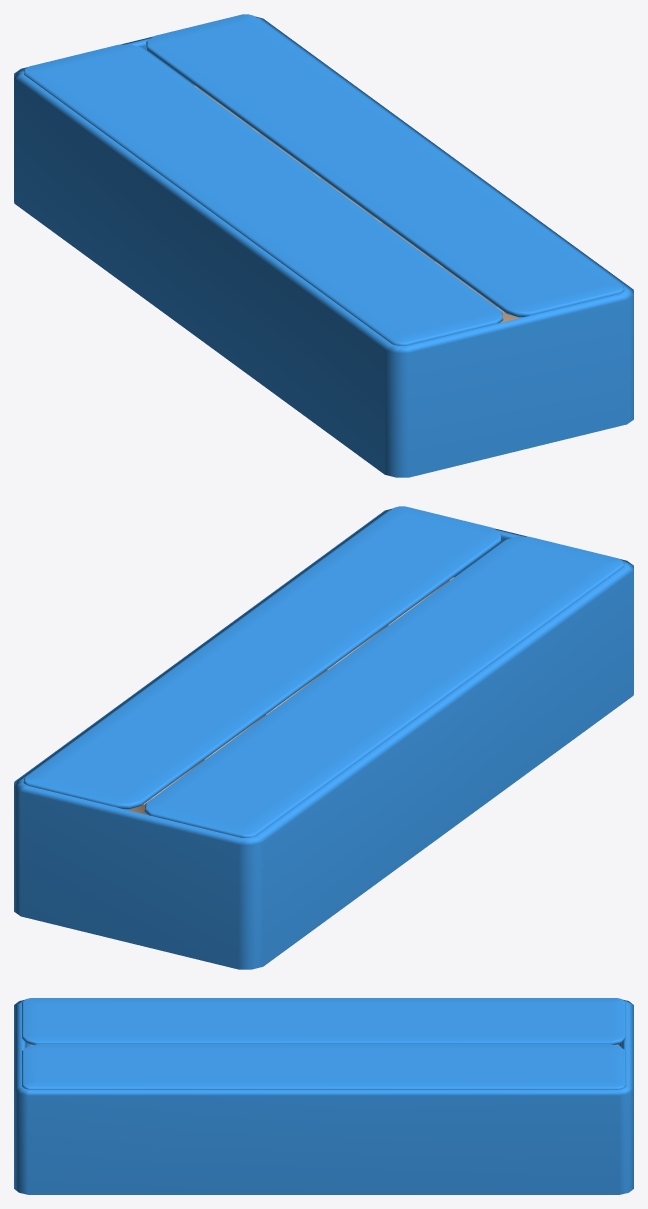
The model's file is Blue_Box.fbx.
The picture shows the model from 3 angles, top to bottom: view 1: azimuth 30°, elevation 25°; view 2: azimuth 150°, elevation 25°; view 3: azimuth 270°, elevation 25°; orthographic projection. The views are drawn at different scales.
Visible parts, largest first — view 1: Bluebox, Yellowbox8, Yellowbox9; view 2: Bluebox, Yellowbox8, Yellowbox9; view 3: Bluebox, Yellowbox8, Yellowbox9.
Boxes of the visible parts, x1,y1,x2,y2 form: Bluebox: (14,16,633,477); Yellowbox8: (23,44,503,345); Yellowbox9: (146,14,624,317); Bluebox: (14,508,633,969); Yellowbox8: (144,536,624,837); Yellowbox9: (23,506,501,809); Bluebox: (14,999,633,1194); Yellowbox8: (22,998,625,1044); Yellowbox9: (22,1044,625,1089).
Size of the model in its own units: 252 by 126 by 681.
